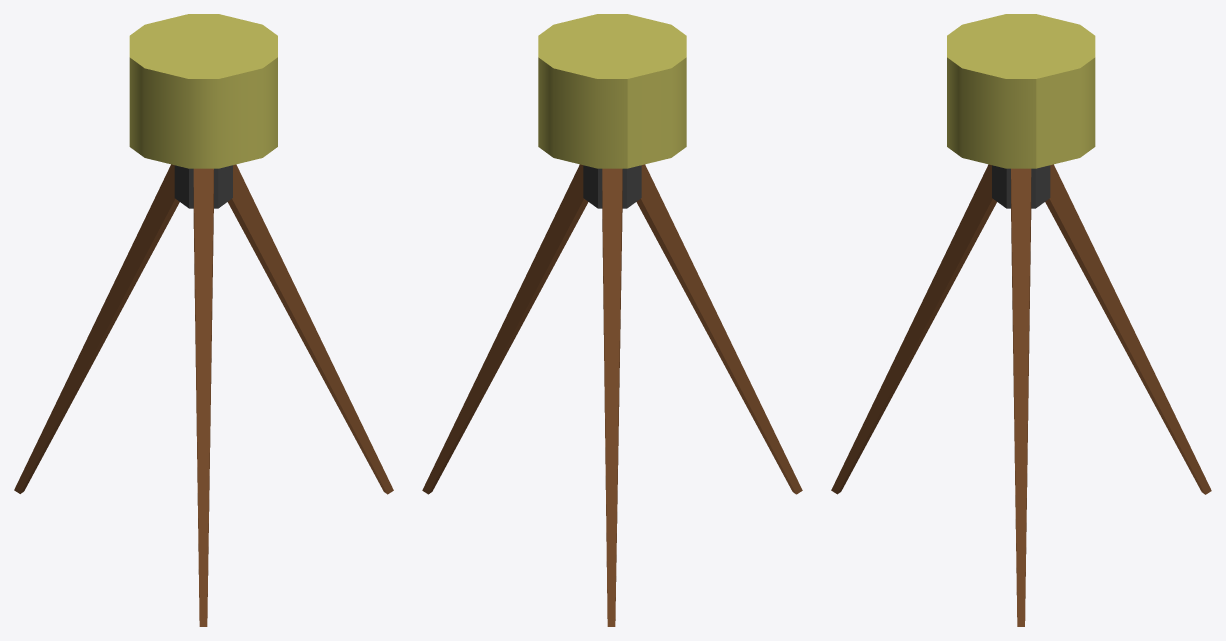
Rendered from floor lamp 2.fbx.
The picture shows the model from 3 angles, left to right: view 1: azimuth 30°, elevation 25°; view 2: azimuth 150°, elevation 25°; view 3: azimuth 270°, elevation 25°; orthographic projection.
Parts seen in each view (by area): view 1: floor lamp 2; view 2: floor lamp 2; view 3: floor lamp 2.
Boxes of the visible parts, x1,y1,x2,y2 form: floor lamp 2: (14,14,393,626); floor lamp 2: (422,14,802,626); floor lamp 2: (831,14,1211,626).
Size of the model in its own units: 2.29 by 3.76 by 2.64.
